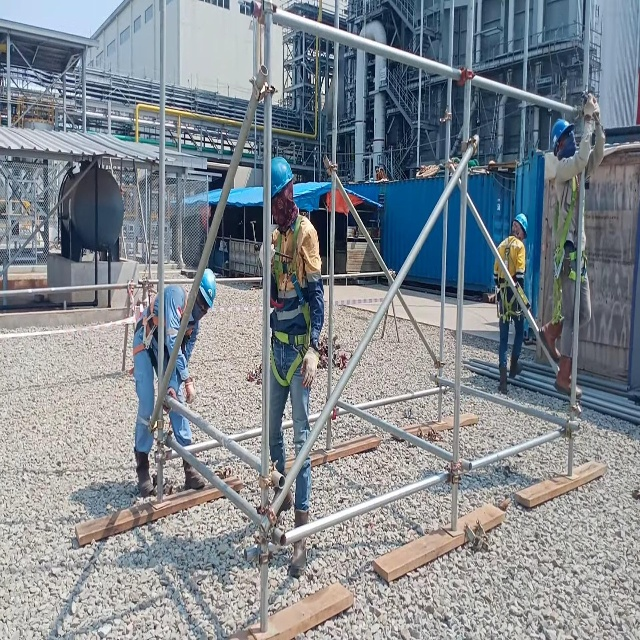Arnes_seguridad: (270, 218, 319, 387), (128, 284, 192, 372), (550, 168, 590, 291), (492, 231, 526, 324)
